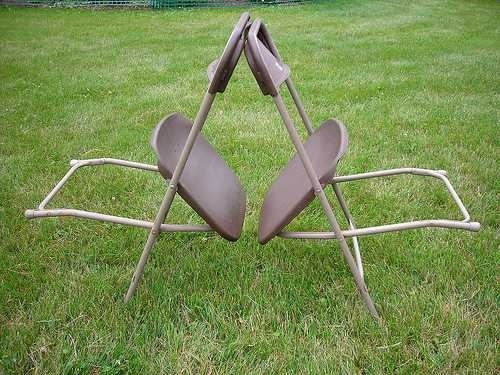obstacle: (25, 12, 479, 319)
